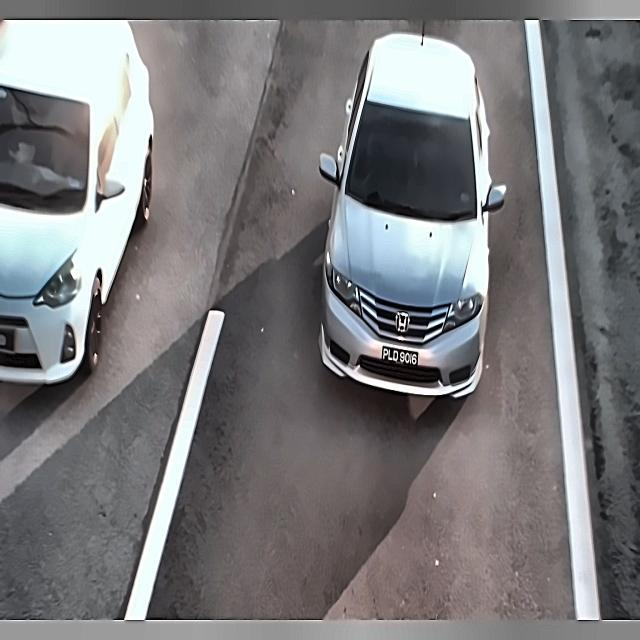car: (378, 332, 426, 378)
